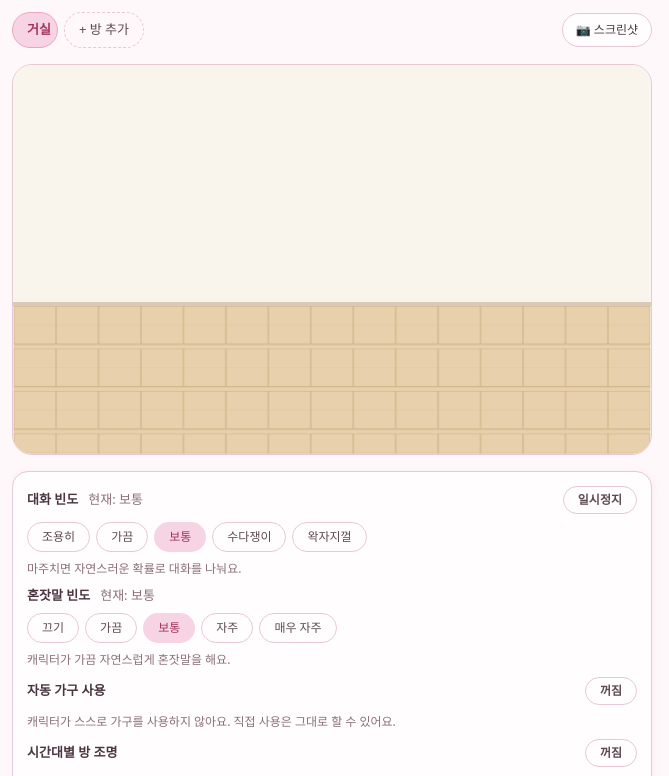
Test case: LiveScreen › starts the simulation on mount and toggles pause/resume via the button
The width and height of the screenshot is (669, 776).
Click the button "일시정지".
click(600, 500)  # box [563,486,637,514]
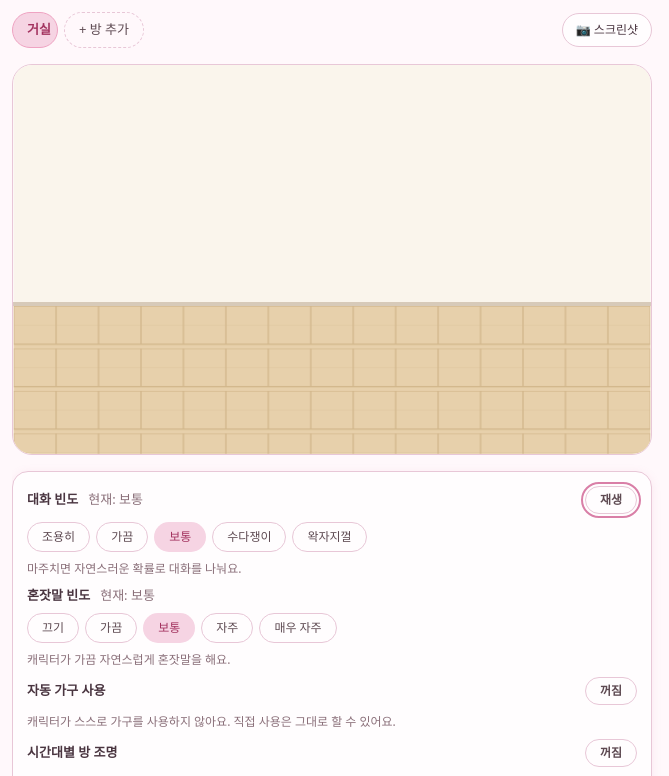
Check: the button "재생" is shown, box [585,486,637,514]
